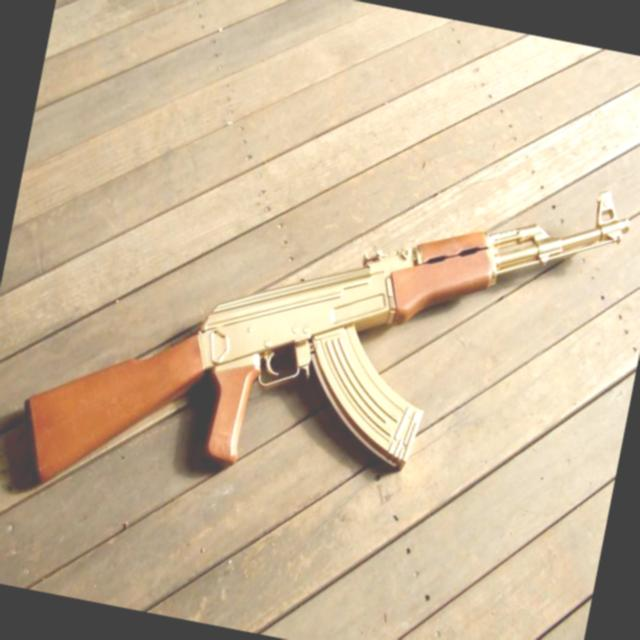ak: (4, 88, 640, 595)
